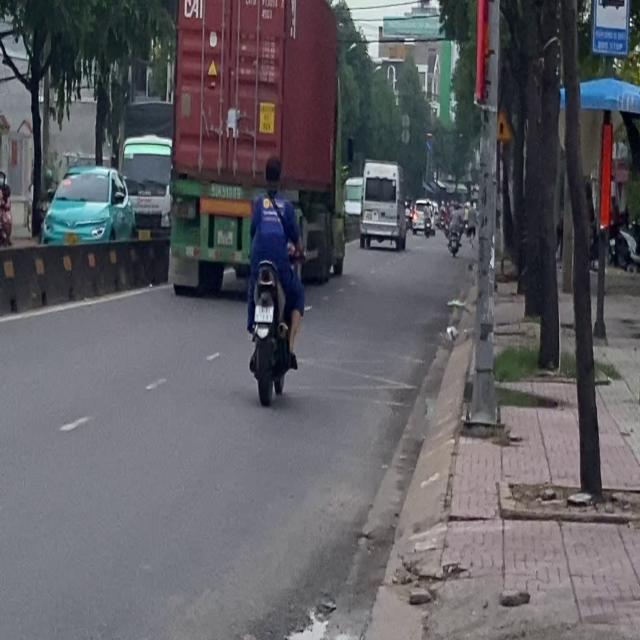licenseplate: (242, 152, 304, 403)
motorcyclist: (262, 154, 281, 190)
nohelmet: (255, 304, 272, 321)
